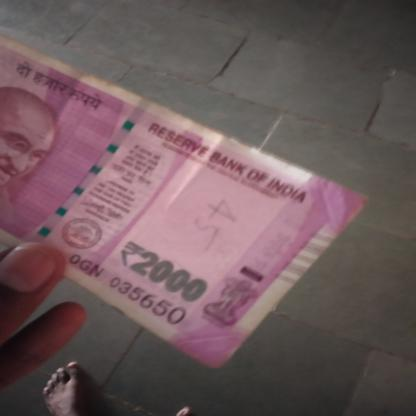New2000Front: (0, 32, 372, 370)
